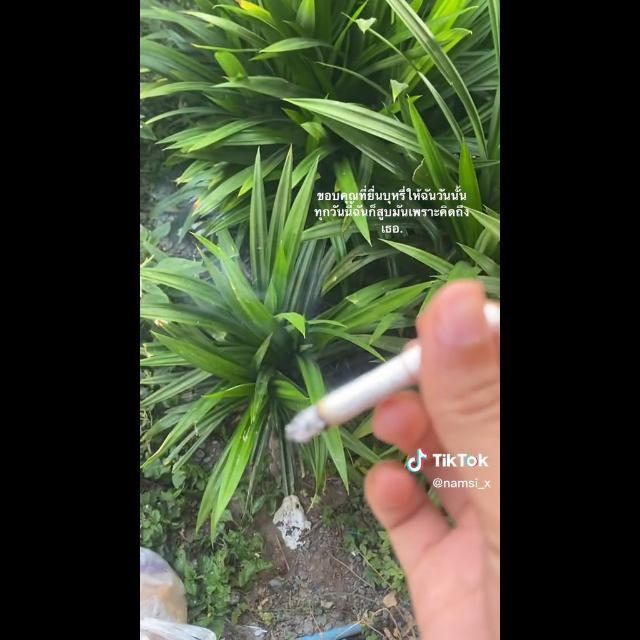rokok: (280, 311, 500, 459)
